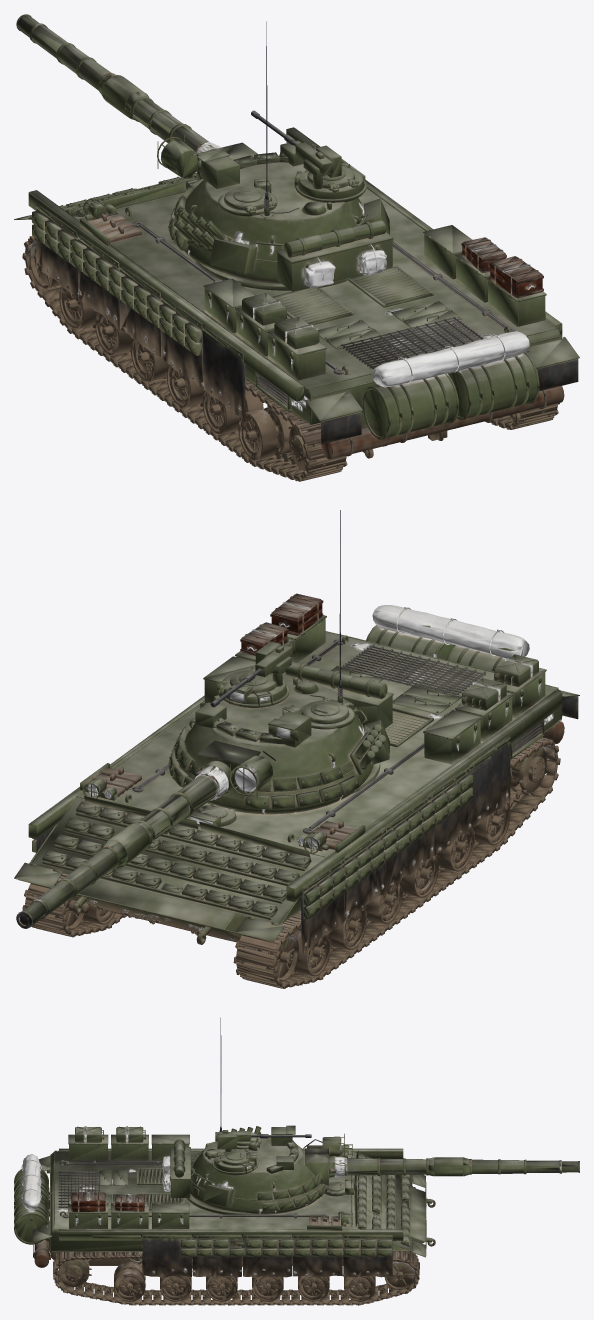
The picture shows the model from 3 angles, top to bottom: view 1: azimuth 30°, elevation 25°; view 2: azimuth 150°, elevation 25°; view 3: azimuth 270°, elevation 25°; orthographic projection. The views are drawn at different scales.
Parts seen in each view (by area): view 1: hull, turret, gun; view 2: hull, turret, gun; view 3: hull, turret, gun.
Part boxes in pixels (x1,y1,x2,y2): hull: (14,127,579,481); turret: (168,21,393,291); gun: (16,14,257,181); hull: (14,593,579,988); turret: (168,510,393,814); gun: (16,740,276,928); hull: (14,1126,435,1305); turret: (162,1017,327,1214); gun: (303,1133,579,1185).
Bounding box in the file's own units: 3.6 × 4.58 × 9.86.
Materials: 1 (1 with a texture image).
